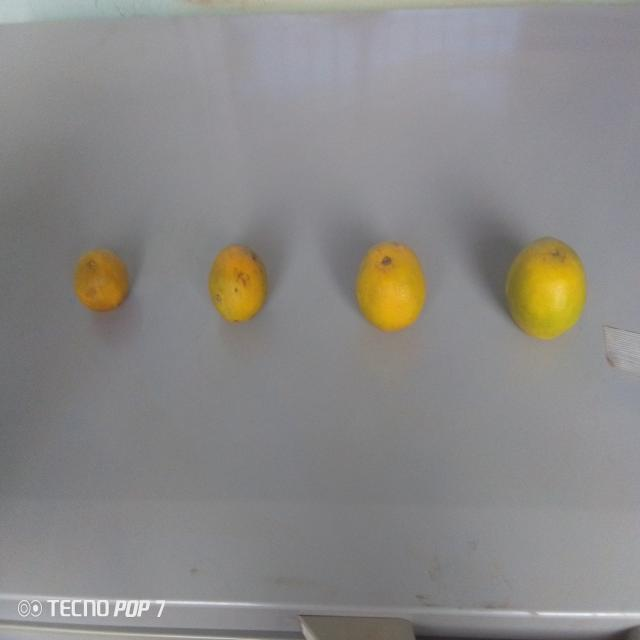Ripe orange: (503, 232, 586, 352), (353, 232, 427, 338), (202, 244, 271, 331), (73, 243, 135, 324)
